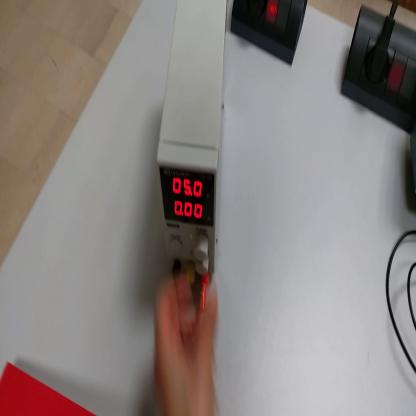hand: (154, 273, 219, 415)
power supply: (156, 1, 228, 284)
register: (1, 362, 96, 415)
socket: (343, 2, 416, 135), (231, 3, 312, 67)
